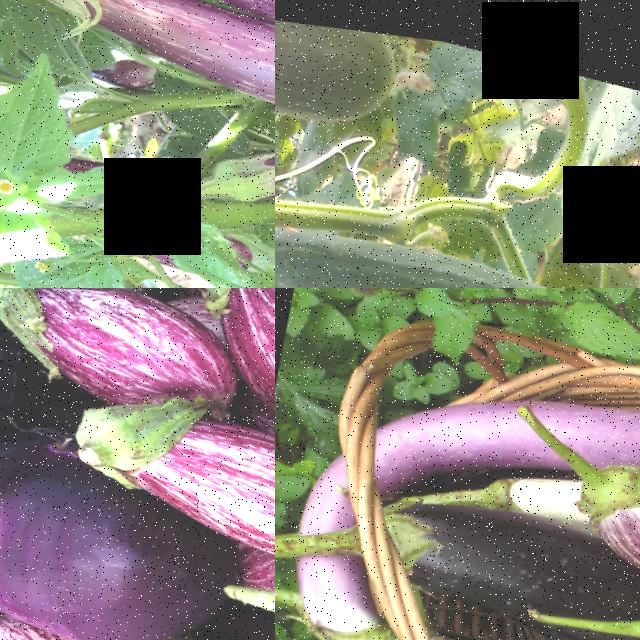cucumber: (275, 173, 640, 288), (275, 1, 403, 136)
eggplant: (390, 494, 640, 640), (0, 288, 235, 421), (110, 388, 275, 575), (0, 0, 275, 109), (192, 288, 275, 445), (211, 75, 275, 235), (578, 444, 640, 580)
